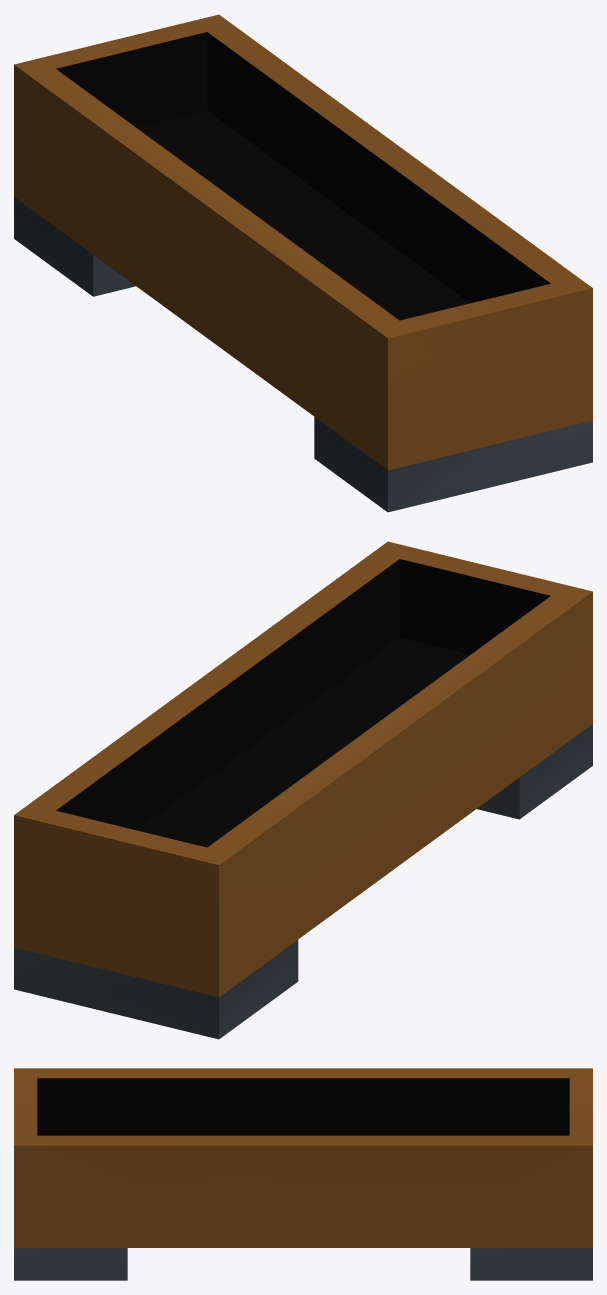
File: Jardinera.fbx
3 renders of one model, top to bottom at view 1: azimuth 30°, elevation 25°; view 2: azimuth 150°, elevation 25°; view 3: azimuth 270°, elevation 25°, orthographic. The views are drawn at different scales.
Visible parts, largest first — view 1: jardinera; view 2: jardinera; view 3: jardinera.
Part boxes in pixels (x1,y1,x2,y2): jardinera: (14, 14, 592, 512); jardinera: (14, 541, 592, 1039); jardinera: (14, 1068, 592, 1280).
Size of the model in its own units: 261 by 212 by 823.
